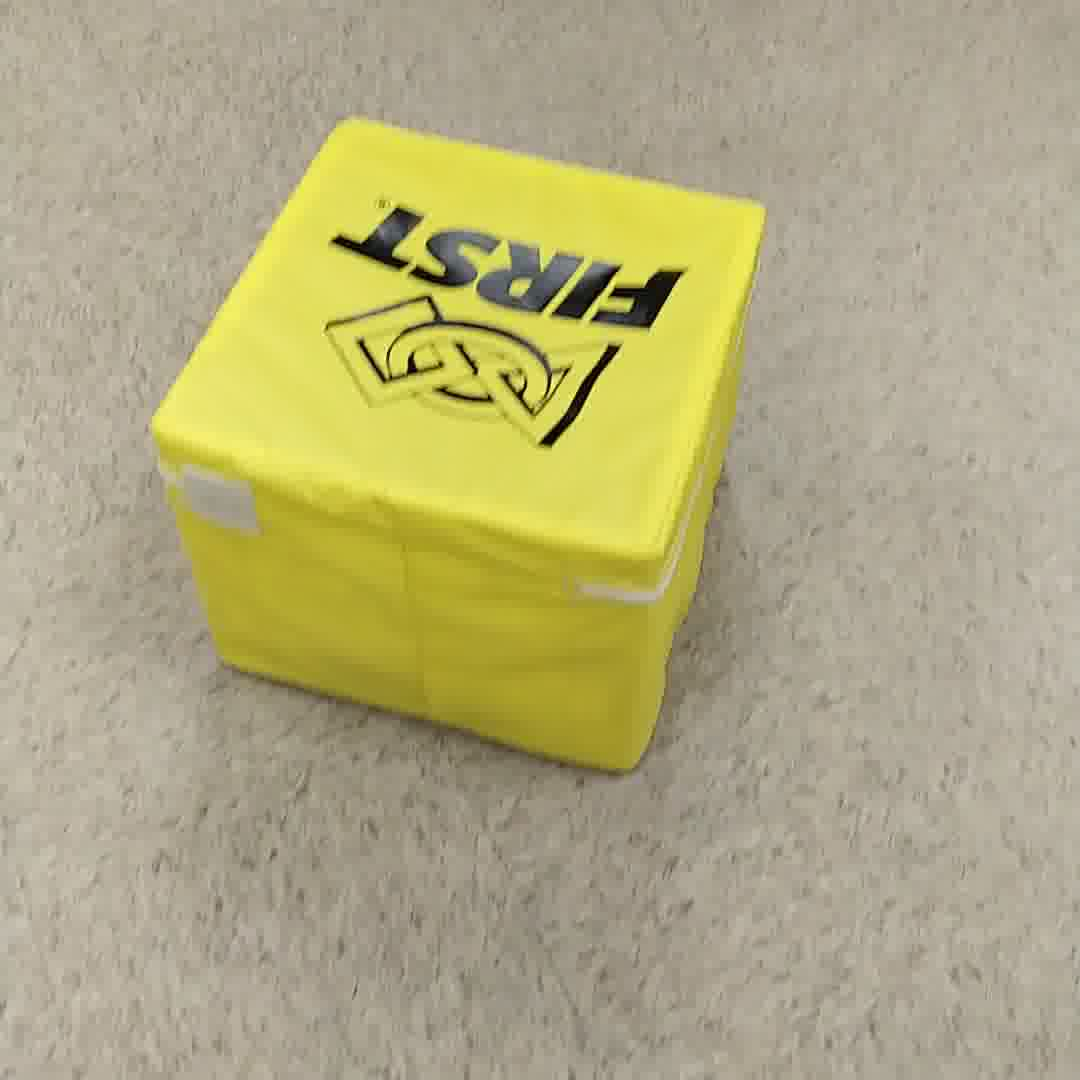box: (147, 105, 765, 785)
